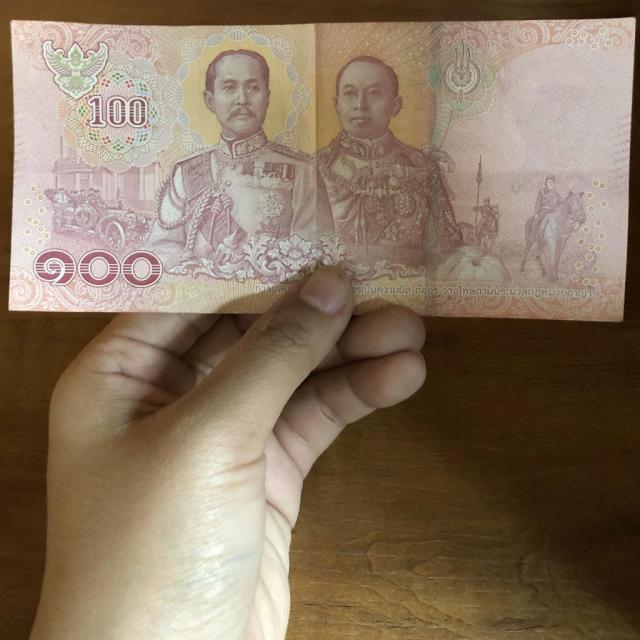THAI100: (9, 19, 635, 321)
